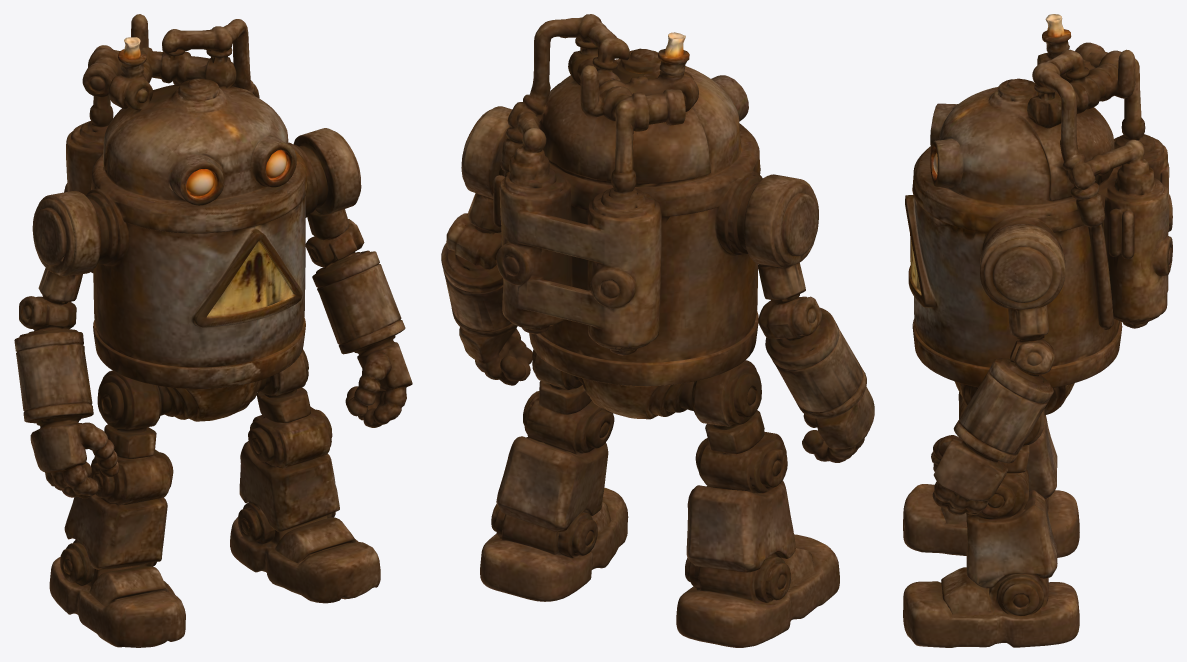
The model's file is Enemigo4.glb.
The picture shows the model from 3 angles, left to right: view 1: azimuth 30°, elevation 25°; view 2: azimuth 150°, elevation 25°; view 3: azimuth 270°, elevation 25°; orthographic projection. The views are drawn at different scales.
Visible parts, largest first — view 1: material; view 2: material; view 3: material.
Boxes of the visible parts, box(x1,y1,x2,y2) form: material: box(14, 14, 412, 647); material: box(441, 14, 874, 647); material: box(903, 14, 1172, 647).
Size of the model in its own units: 0.7338 by 1.02 by 0.4572.
Materials: 1 (1 with a texture image).
